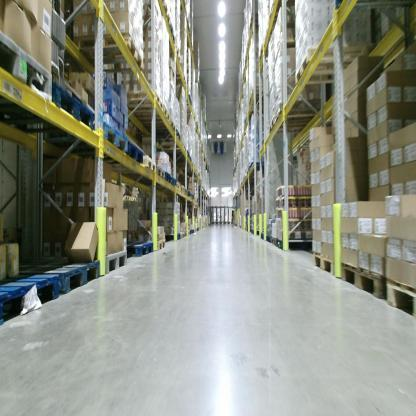pallet: (23, 255, 101, 294), (51, 79, 97, 130), (340, 265, 385, 300), (105, 114, 129, 158)
